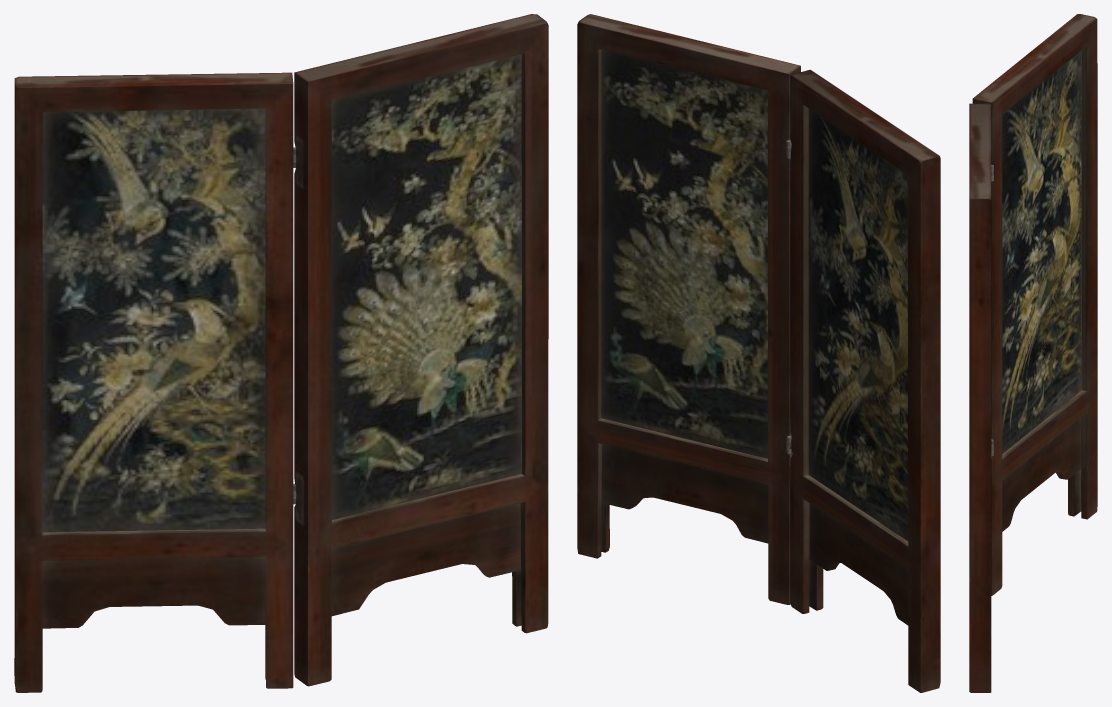
Rendered from room_divider.glb.
3 views of the same model, side by side, from view 1: azimuth 30°, elevation 25°; view 2: azimuth 150°, elevation 25°; view 3: azimuth 270°, elevation 25° (orthographic). The views are drawn at different scales.
Parts seen in each view (by area): view 1: chinese_screen_panels_a; view 2: chinese_screen_panels_a; view 3: chinese_screen_panels_a.
Boxes of the visible parts, x1,y1,x2,y2 form: chinese_screen_panels_a: (14,14,548,692); chinese_screen_panels_a: (577,14,940,692); chinese_screen_panels_a: (969,14,1097,692).
Size of the model in its own units: 1.29 by 1.6 by 0.3769.
1 material, 1 textured.
